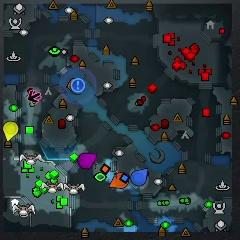Other: (71, 78, 85, 93)
p1: (130, 168, 150, 186)
p3: (78, 152, 97, 170)
p4: (3, 119, 19, 143)
p5: (109, 172, 129, 189)
x1Clone: (28, 89, 41, 103)
